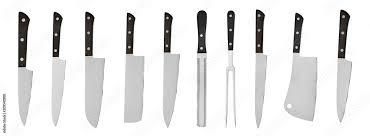Knife: (283, 12, 317, 121), (84, 11, 104, 127), (123, 12, 144, 122), (162, 11, 179, 127), (336, 9, 352, 121), (17, 11, 32, 125), (51, 11, 65, 125), (254, 9, 266, 127), (225, 10, 236, 127), (196, 10, 207, 126)
